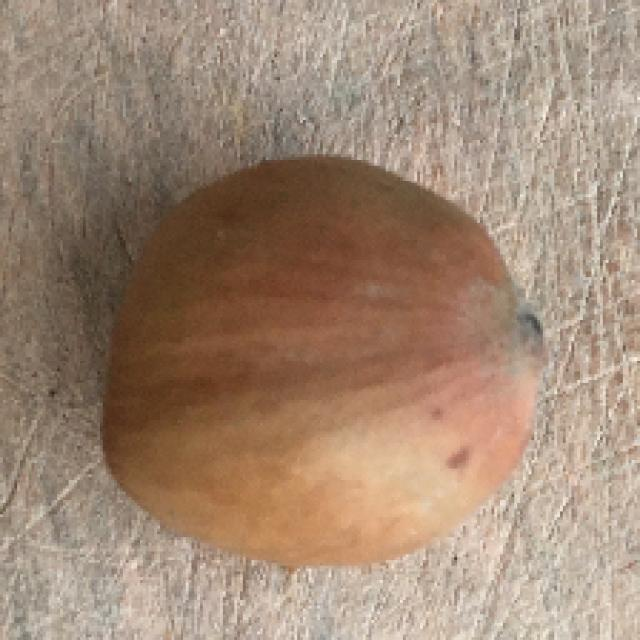DamagedHazelnut: (97, 154, 550, 570)
